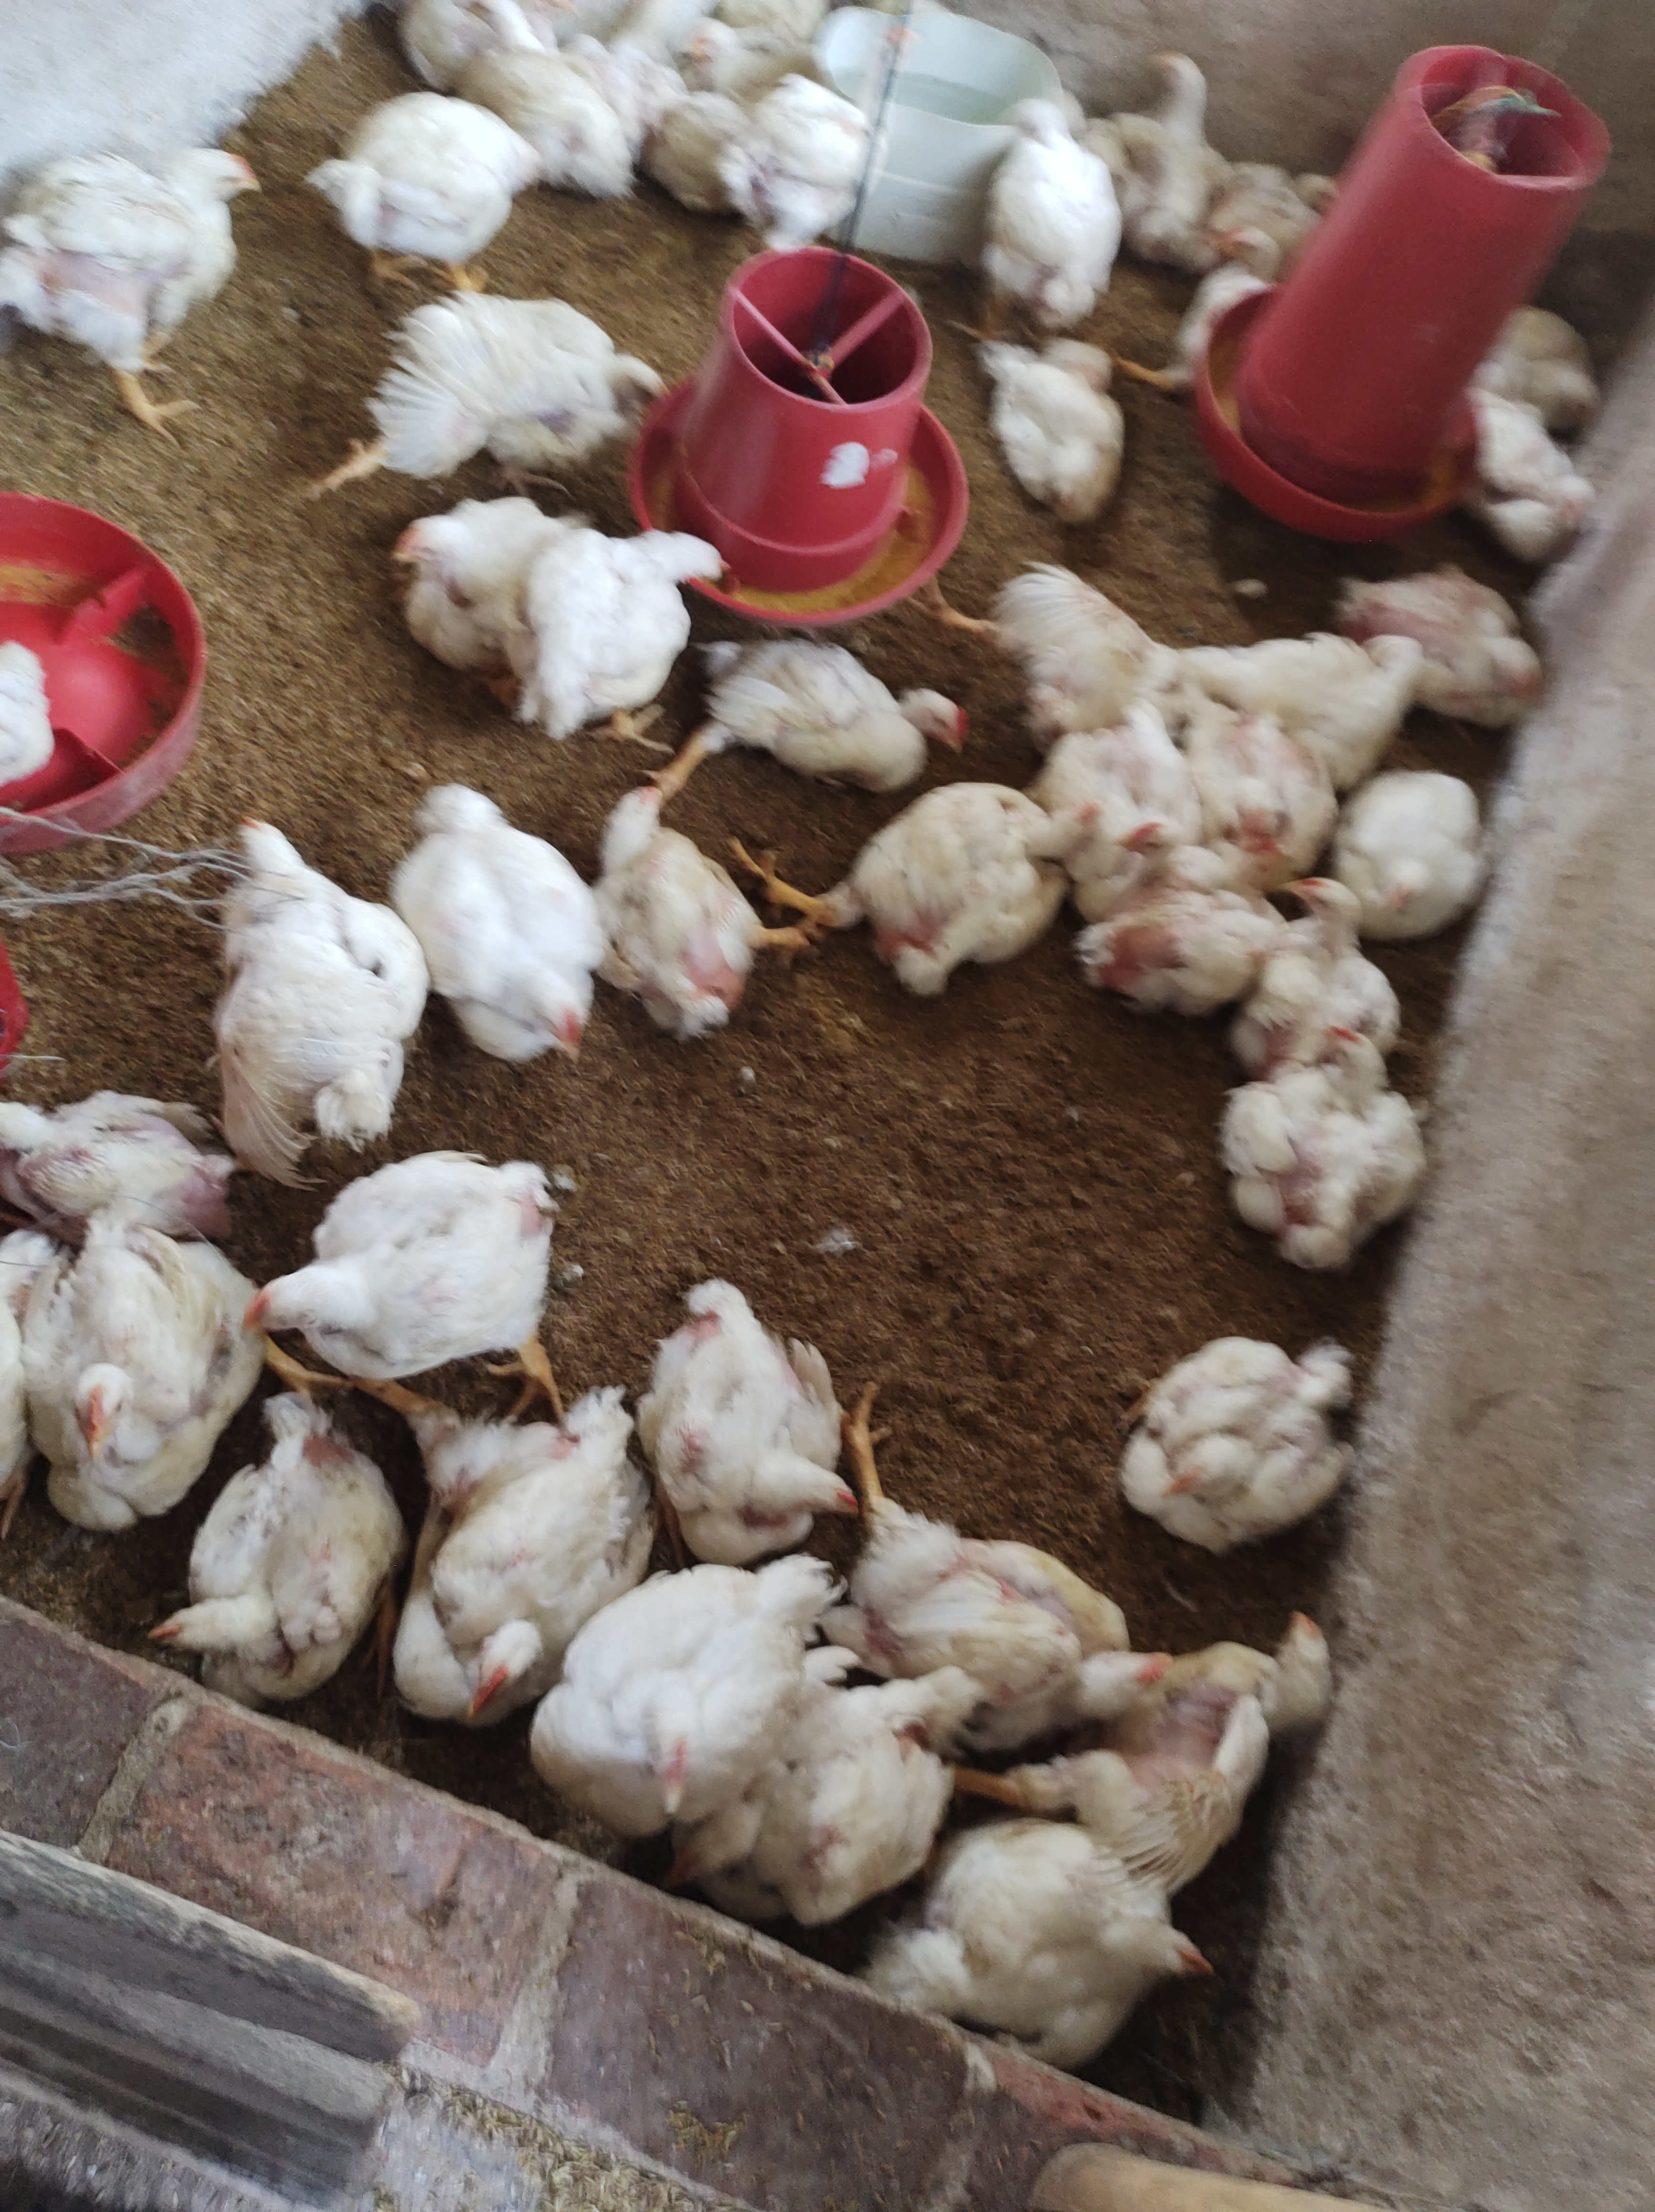Pollos: (226, 1136, 589, 1402), (833, 1456, 1172, 1732), (963, 1795, 1226, 2130), (0, 115, 268, 430), (421, 1339, 633, 1722), (148, 1388, 391, 1713), (31, 1203, 289, 1489), (624, 1247, 852, 1556), (803, 776, 1080, 996), (1104, 1596, 1375, 1819), (363, 282, 669, 476), (396, 777, 596, 1073), (1172, 1033, 1439, 1252), (706, 1716, 974, 1927), (541, 1556, 725, 1857), (0, 1052, 299, 1236), (1104, 1349, 1419, 1523), (231, 843, 429, 1111), (523, 513, 749, 744), (302, 71, 548, 275), (591, 786, 770, 1052), (676, 631, 968, 790), (1347, 522, 1561, 725), (370, 470, 560, 683), (464, 0, 631, 230), (961, 327, 1144, 522), (984, 77, 1120, 327), (1109, 816, 1267, 1023), (1245, 866, 1408, 1049), (1330, 756, 1486, 920), (1114, 43, 1226, 270), (744, 77, 913, 212), (1281, 623, 1436, 739), (650, 94, 775, 228), (1260, 158, 1377, 237), (1219, 767, 1295, 882), (675, 3, 761, 75)
